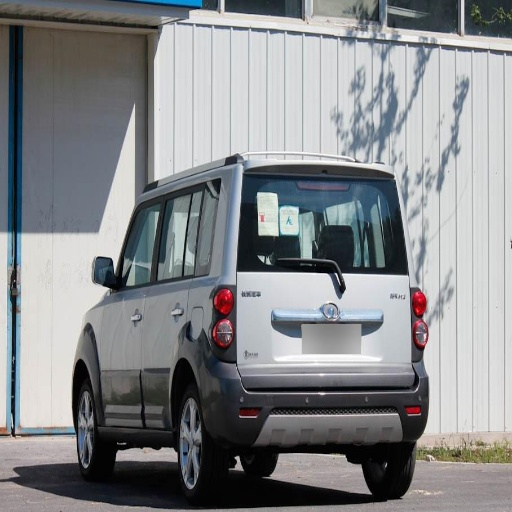back_bumper: (205, 361, 428, 442)
back_glass: (240, 225, 404, 273)
back_left_door: (143, 196, 194, 427)
trunk: (235, 275, 407, 387)
